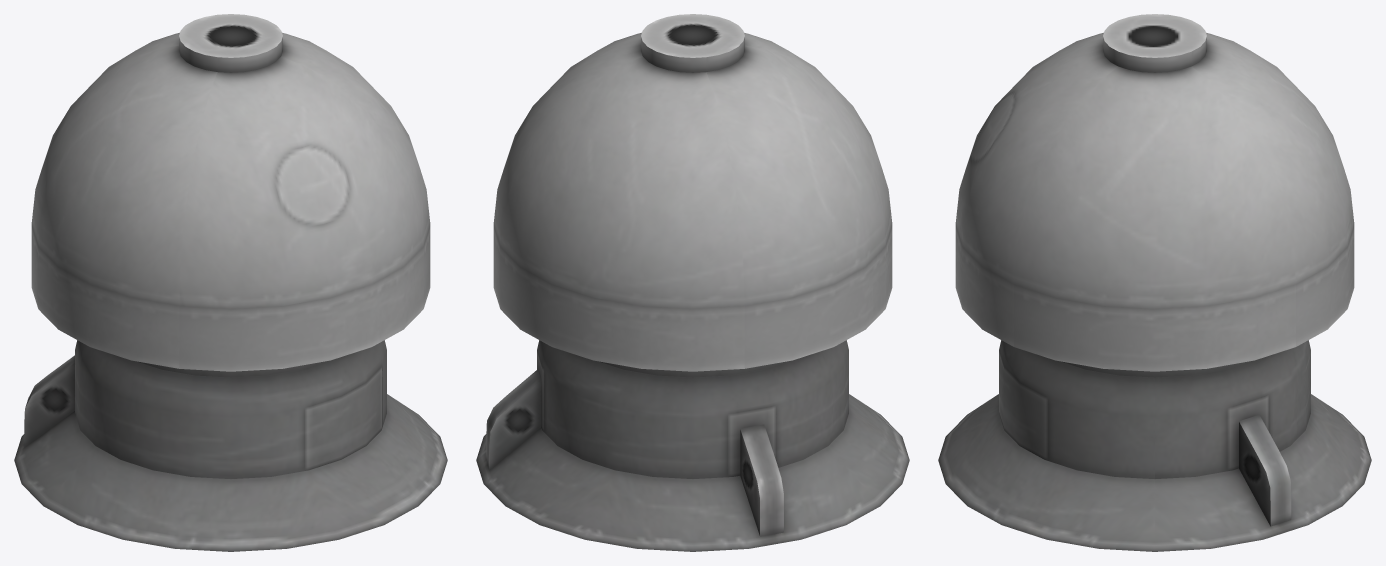
Rendered from 1mv_sensor_camera_s0_1.obj.
3 views of the same model, side by side, from view 1: azimuth 30°, elevation 25°; view 2: azimuth 150°, elevation 25°; view 3: azimuth 270°, elevation 25° (orthographic).
Parts seen in each view (by area): view 1: mesh1; view 2: mesh1; view 3: mesh1.
Part boxes in pixels (x1,y1,x2,y2): mesh1: (14,14,447,551); mesh1: (476,14,909,551); mesh1: (938,14,1371,551).
Bounding box in the file's own units: 0.625 × 0.675 × 0.625.
Materials: 1 (1 with a texture image).
